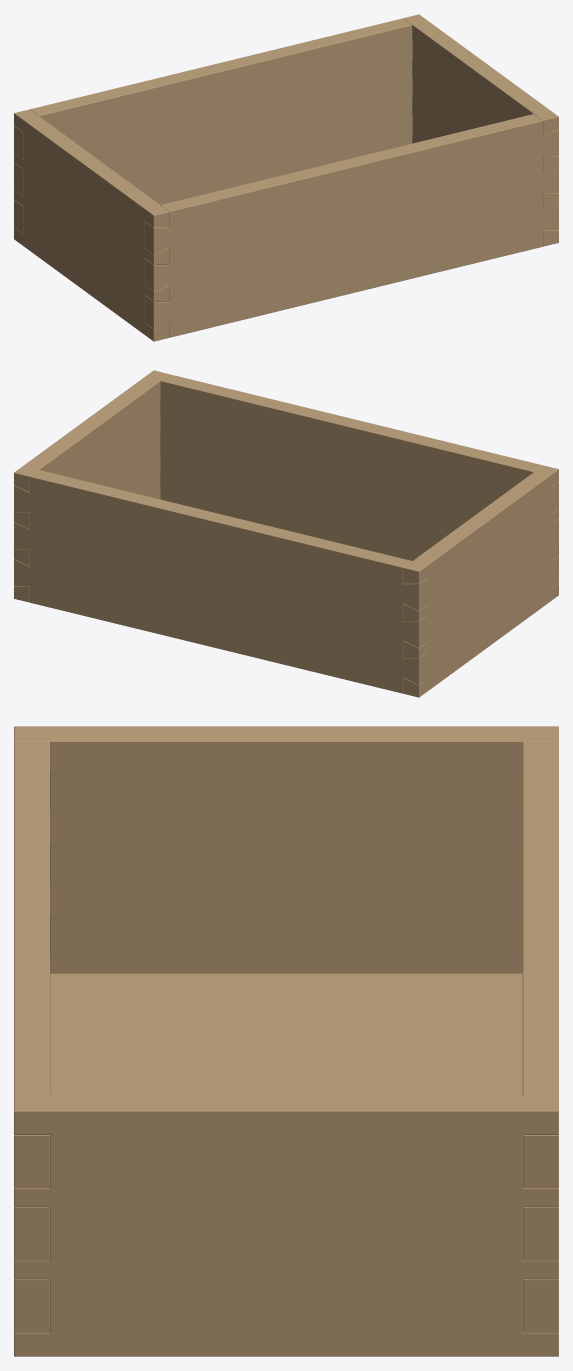
The model's file is EmptyBox.fbx.
3 renders of one model, top to bottom at view 1: azimuth 30°, elevation 25°; view 2: azimuth 150°, elevation 25°; view 3: azimuth 270°, elevation 25°, orthographic. The views are drawn at different scales.
Visible parts, largest first — view 1: front, sides; view 2: front, sides; view 3: sides, bottom, front.
Boxes of the visible parts, left/top/right/bottom form: front: left=14, top=18, right=558, bottom=337; sides: left=14, top=14, right=558, bottom=341; front: left=14, top=374, right=558, bottom=693; sides: left=14, top=370, right=558, bottom=697; sides: left=14, top=726, right=558, bottom=1356; bottom: left=50, top=973, right=522, bottom=1096; front: left=14, top=741, right=558, bottom=1332.
Bounding box in the file's own units: 111 × 33.13 × 66.51.
